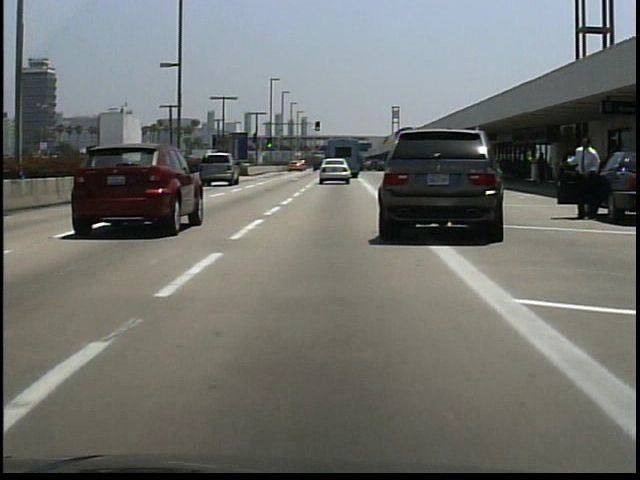person: (560, 134, 602, 224)
